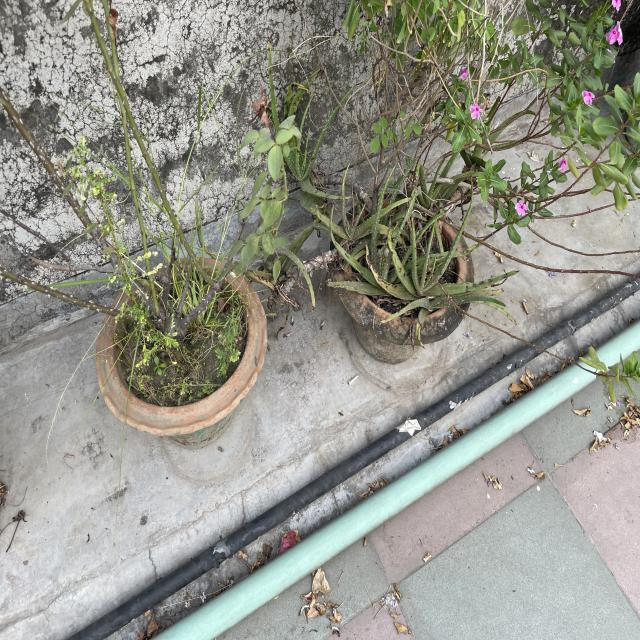Breeding Place: (100, 265, 268, 433), (350, 208, 466, 362)
